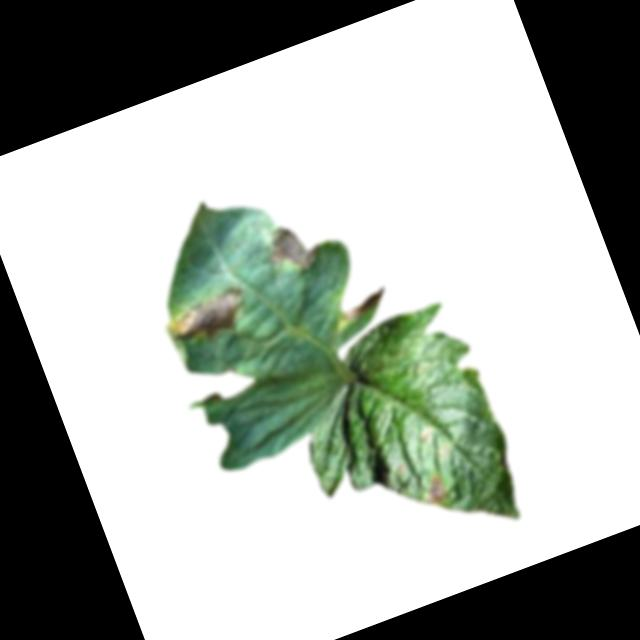Early_blight: (160, 280, 255, 356), (260, 215, 328, 285), (337, 286, 392, 325), (415, 471, 452, 510)
